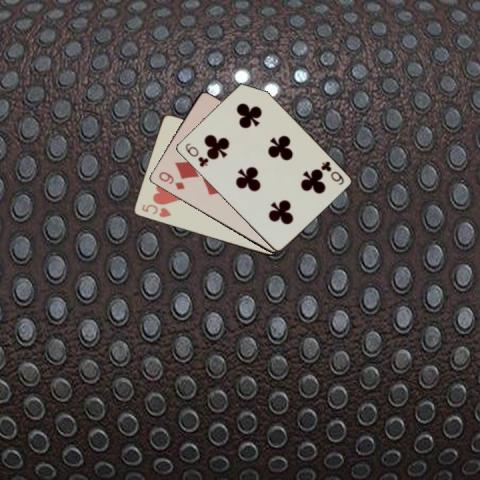5h: (138, 200, 172, 218)
6c: (318, 158, 346, 186), (182, 140, 209, 168)
9d: (155, 169, 186, 191)
